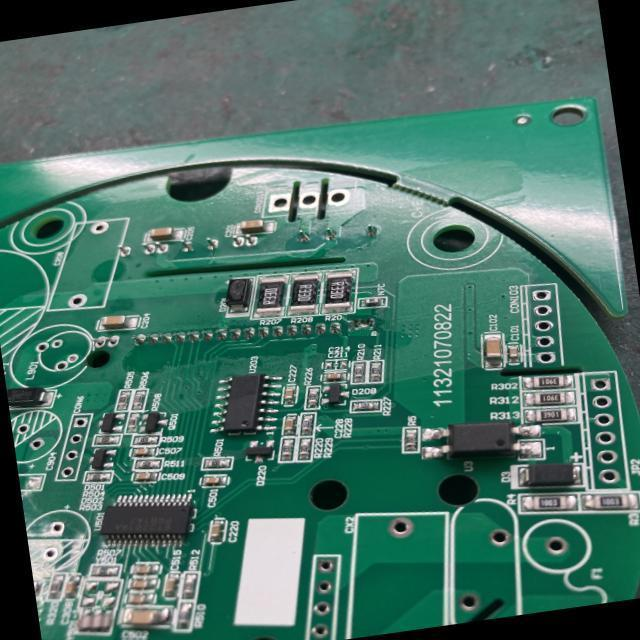damged: (341, 314, 377, 336)
